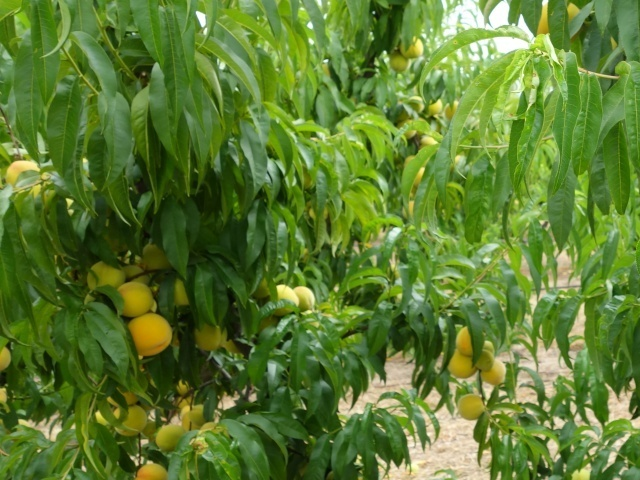peach: (118, 312, 174, 359), (109, 273, 158, 320), (80, 258, 128, 299), (107, 401, 150, 442), (2, 154, 41, 192), (266, 282, 301, 320), (189, 320, 224, 357), (153, 422, 191, 456), (441, 347, 479, 381), (106, 379, 146, 410), (136, 242, 175, 273), (451, 324, 485, 359), (453, 390, 487, 423), (164, 277, 197, 311), (180, 404, 213, 435), (291, 280, 322, 312), (396, 32, 428, 63), (482, 359, 510, 389), (131, 461, 175, 479), (469, 346, 497, 374), (1, 338, 16, 376)
